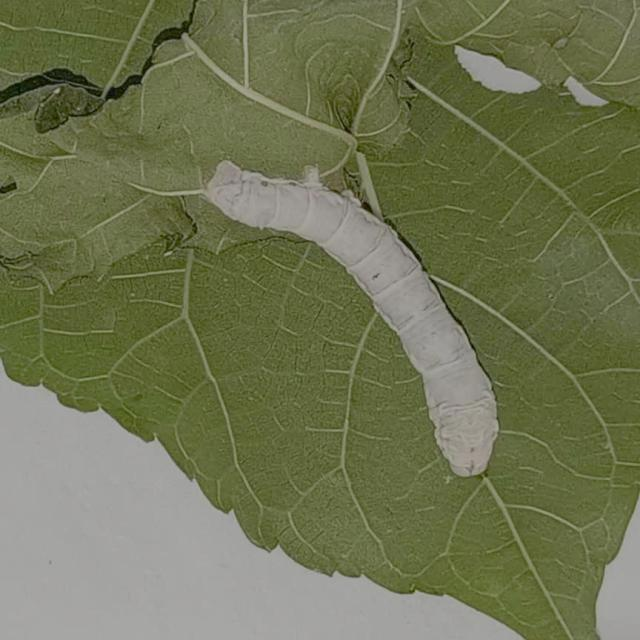Healthy: (195, 148, 504, 480)
